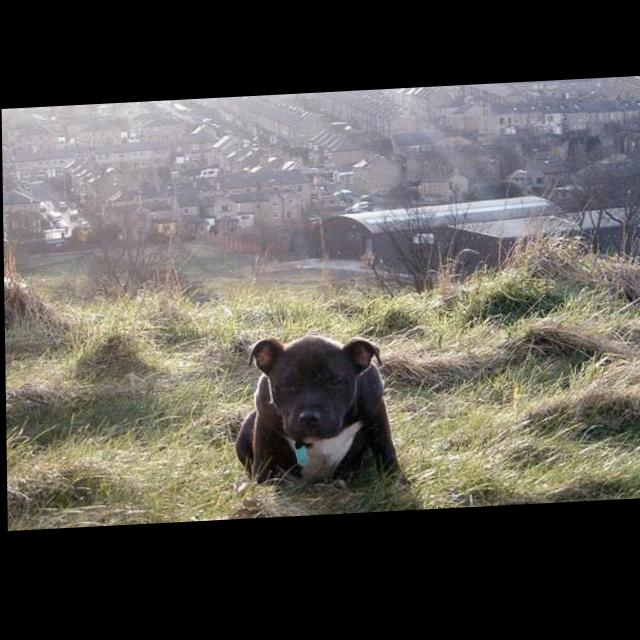staffford: (235, 335, 405, 498)
